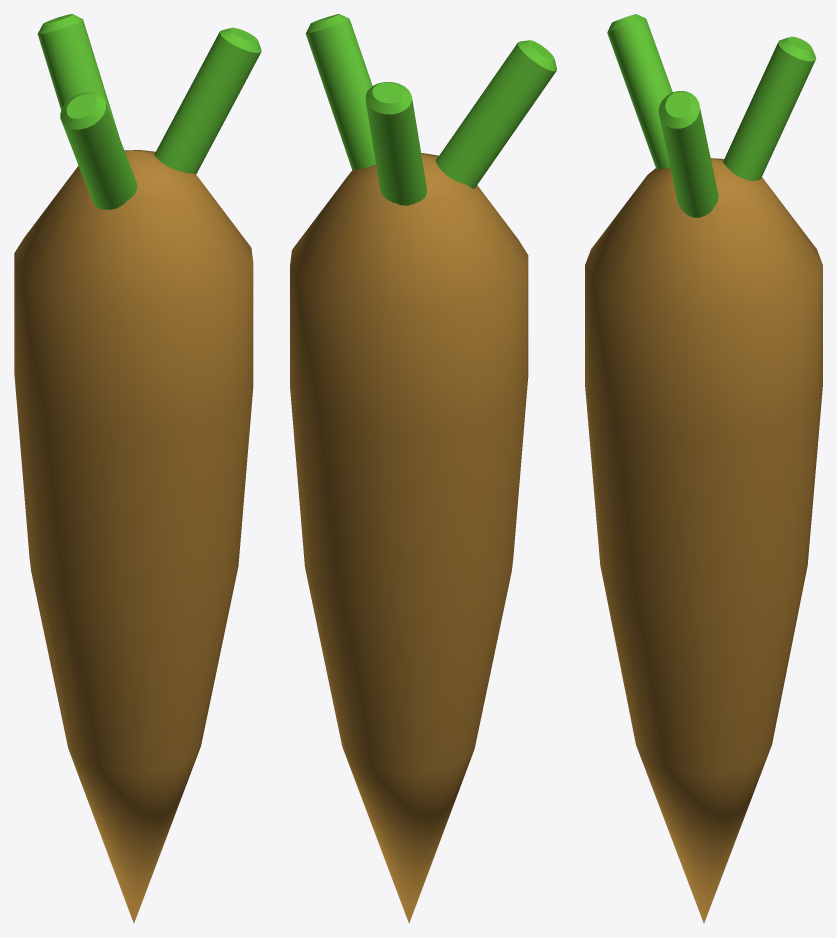
The model's file is carrot_enemy.fbx.
3 renders of one model, left to right at view 1: azimuth 30°, elevation 25°; view 2: azimuth 150°, elevation 25°; view 3: azimuth 270°, elevation 25°, orthographic.
Visible parts, largest first — view 1: pCylinder5; view 2: pCylinder5; view 3: pCylinder5.
Boxes of the visible parts, x1,y1,x2,y2 form: pCylinder5: (14,14,261,923); pCylinder5: (290,14,556,923); pCylinder5: (585,14,822,923).
Bounding box in the file's own units: 1.12 × 4.25 × 1.05.
